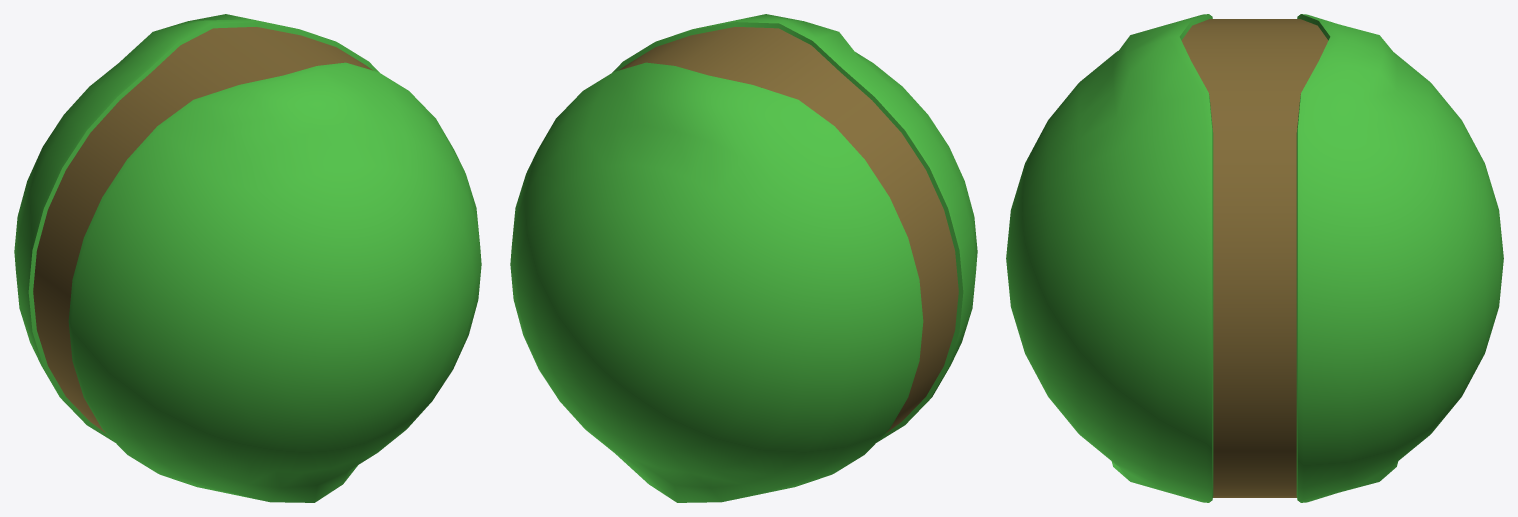
Rendered from World.fbx.
3 views of the same model, side by side, from view 1: azimuth 30°, elevation 25°; view 2: azimuth 150°, elevation 25°; view 3: azimuth 270°, elevation 25° (orthographic). The views are drawn at different scales.
Parts seen in each view (by area): view 1: Sphere; view 2: Sphere; view 3: Sphere.
Boxes of the visible parts, box(x1,y1,x2,y2) form: Sphere: box(14, 14, 481, 502); Sphere: box(510, 14, 977, 502); Sphere: box(1006, 14, 1503, 502).
Bounding box in the file's own units: 4916 × 4916 × 5000.
